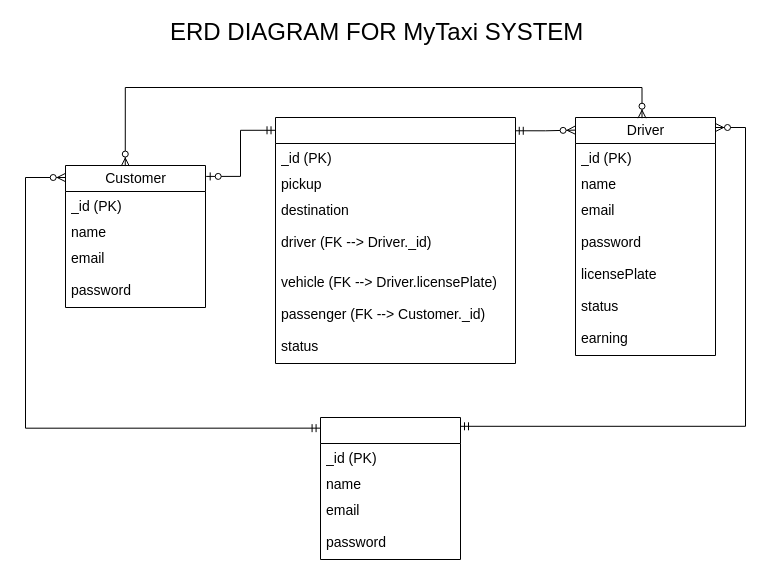
Some shapes in this 772 by 579 pixel diagram are drawn without their labels. The shapes that lost their labels are listed below. From the top down, each one's box as (x1, y1, x2, y2) in pixels, then its label:
(274, 116, 516, 364): Ride
(320, 416, 460, 560): Admin
